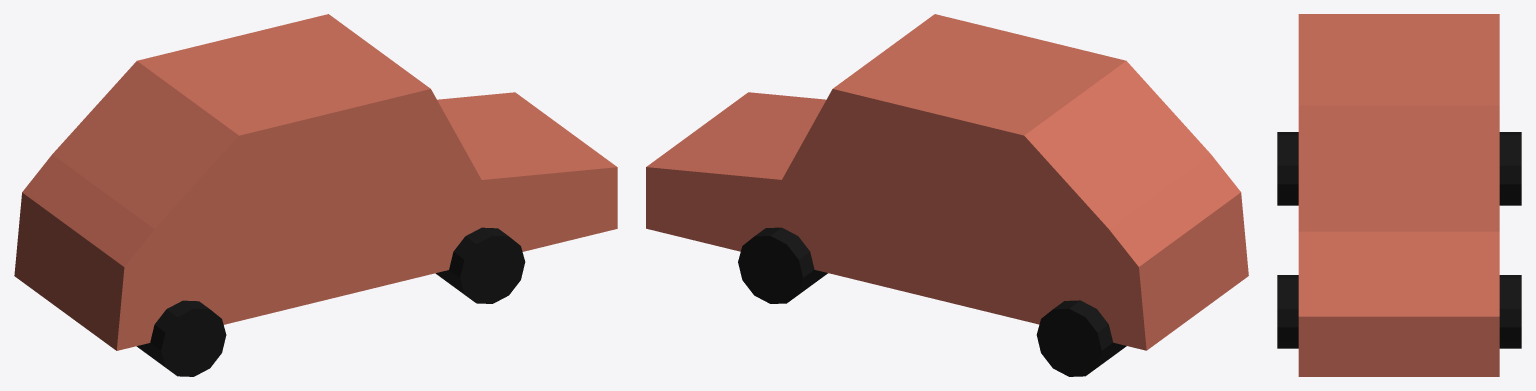
The model's file is shittyCar.fbx.
3 views of the same model, side by side, from view 1: azimuth 30°, elevation 25°; view 2: azimuth 150°, elevation 25°; view 3: azimuth 270°, elevation 25° (orthographic).
Parts seen in each view (by area): view 1: shittyCar; view 2: shittyCar; view 3: shittyCar.
Part boxes in pixels (x1,y1,x2,y2): shittyCar: (14,14,617,376); shittyCar: (646,14,1248,376); shittyCar: (1277,14,1521,376).
Size of the model in its own units: 565 by 237 by 244.
